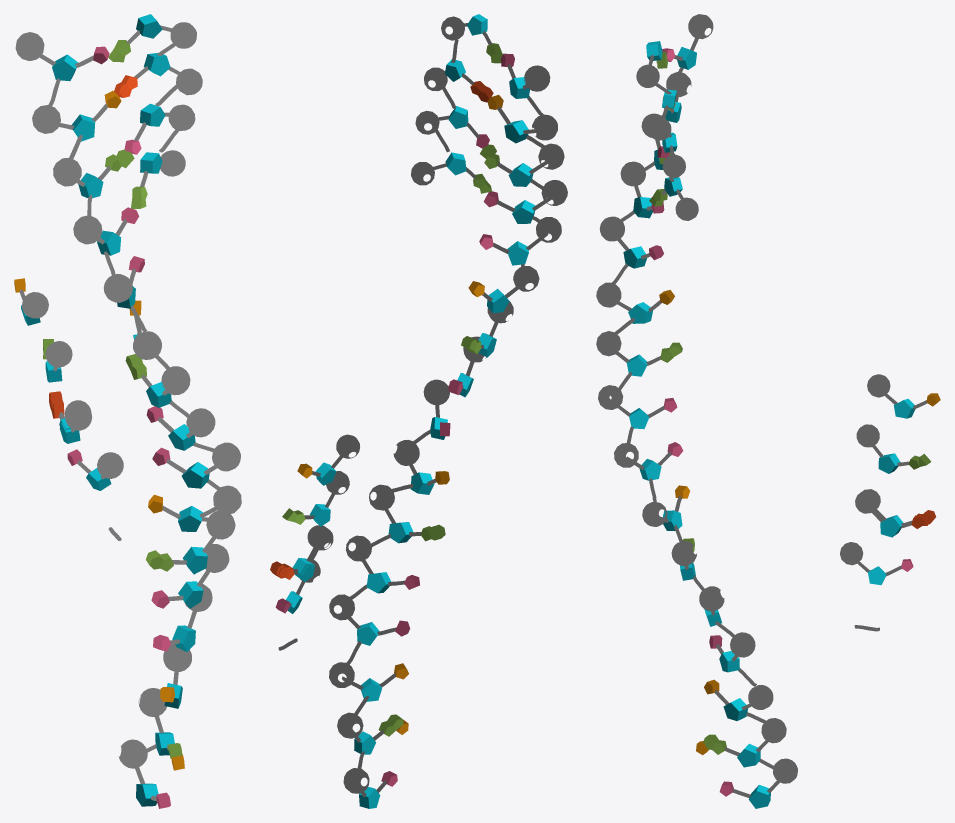
File: molecule.glb
The picture shows the model from 3 angles, left to right: view 1: azimuth 30°, elevation 25°; view 2: azimuth 150°, elevation 25°; view 3: azimuth 270°, elevation 25°; orthographic projection. The views are drawn at different scales.
Visible parts, largest first — view 1: group570081878, group739117016, group1381201927, group1780185330, group1647937200, group1916166101; view 2: group570081878, group739117016, group1381201927, group1780185330, group1647937200, group1916166101; view 3: group570081878, group739117016, group1381201927, group1780185330, group1647937200.
Boxes of the visible parts, <box> form: group570081878: <box>15,22,241,801</box>; group739117016: <box>21,14,209,806</box>; group1381201927: <box>43,40,182,758</box>; group1780185330: <box>67,46,170,808</box>; group1647937200: <box>14,90,184,770</box>; group1916166101: <box>49,75,137,418</box>; group570081878: <box>278,16,567,797</box>; group739117016: <box>286,14,535,808</box>; group1381201927: <box>282,43,502,736</box>; group1780185330: <box>275,53,514,786</box>; group1647937200: <box>297,94,503,734</box>; group1916166101: <box>270,81,493,579</box>; group570081878: <box>596,14,927,797</box>; group739117016: <box>623,41,915,808</box>; group1381201927: <box>649,52,931,754</box>; group1780185330: <box>649,48,913,796</box>; group1647937200: <box>659,96,940,755</box>.
Bounding box in the file's own units: 0.0501 × 0.1866 × 0.0789.
